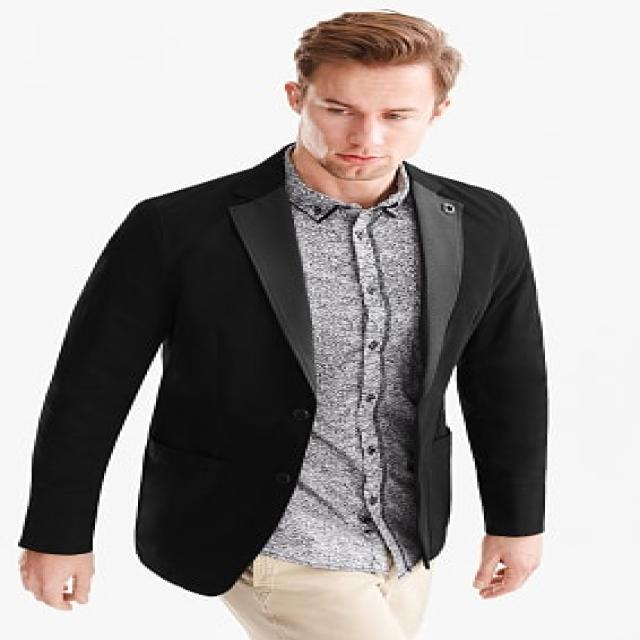human: (13, 1, 556, 640)
